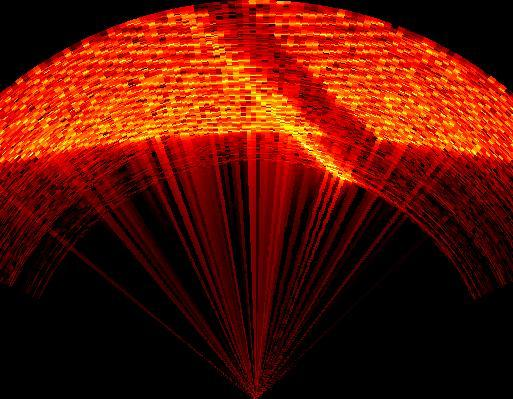pipe: (192, 1, 378, 170)
